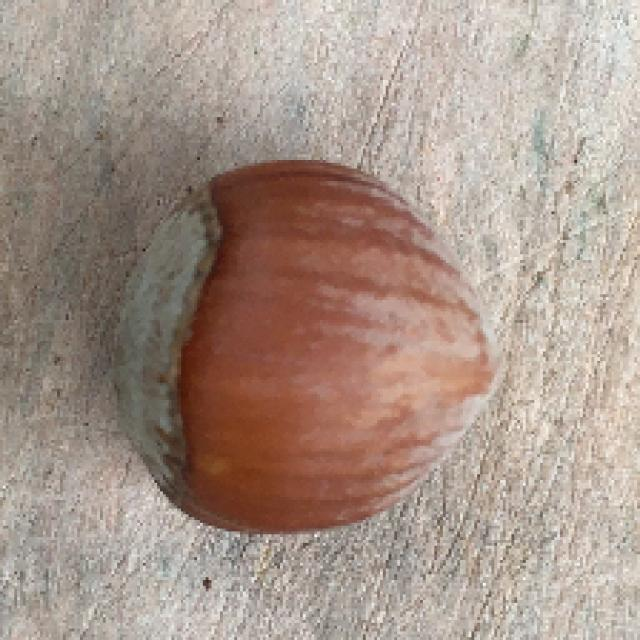qualityHazelnut: (112, 154, 501, 538)
